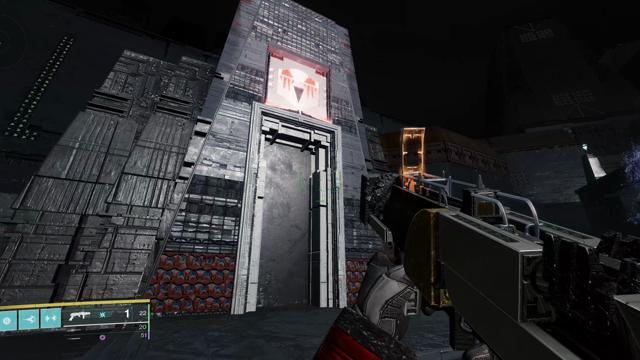give: (275, 68, 320, 109)
